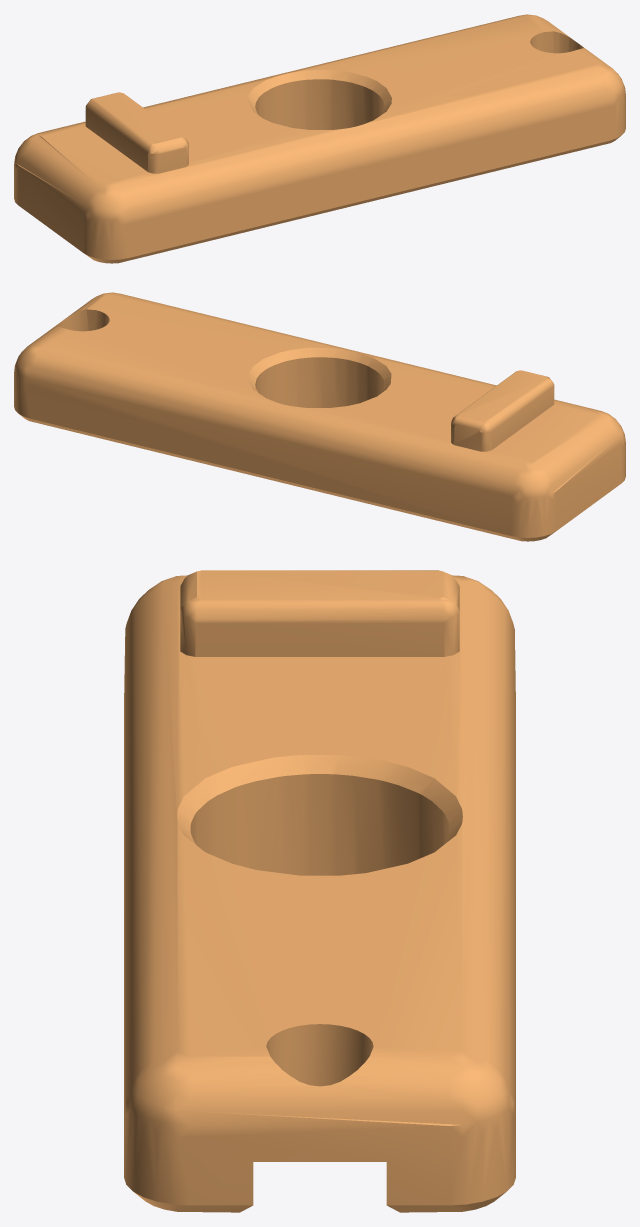
Rendered from mech-bat-door-screw.glb.
The picture shows the model from 3 angles, top to bottom: view 1: azimuth 30°, elevation 25°; view 2: azimuth 150°, elevation 25°; view 3: azimuth 270°, elevation 25°; orthographic projection. The views are drawn at different scales.
Parts seen in each view (by area): view 1: mech-bat-door-screw; view 2: mech-bat-door-screw; view 3: mech-bat-door-screw.
Boxes of the visible parts, box(x1,y1,x2,y2) form: mech-bat-door-screw: box(14, 14, 625, 263); mech-bat-door-screw: box(14, 292, 625, 541); mech-bat-door-screw: box(124, 570, 515, 1212).
Size of the model in its own units: 0.0336 by 0.00578 by 0.0106.
